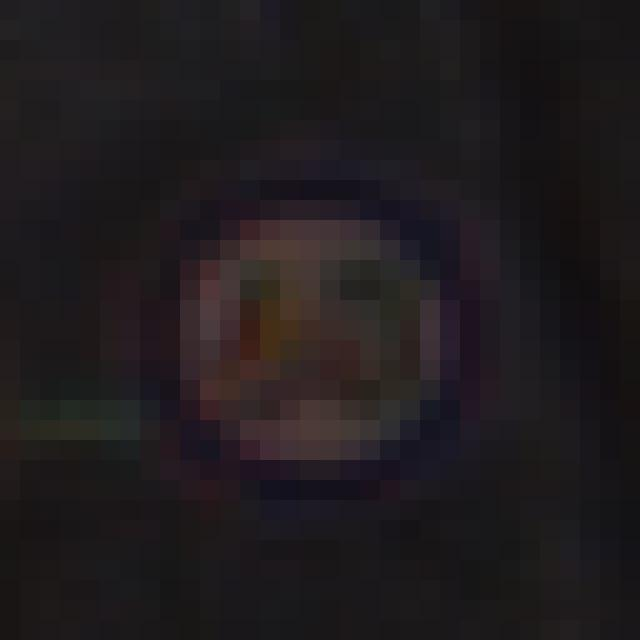SPEED-LIMIT-60: (111, 165, 492, 506)
